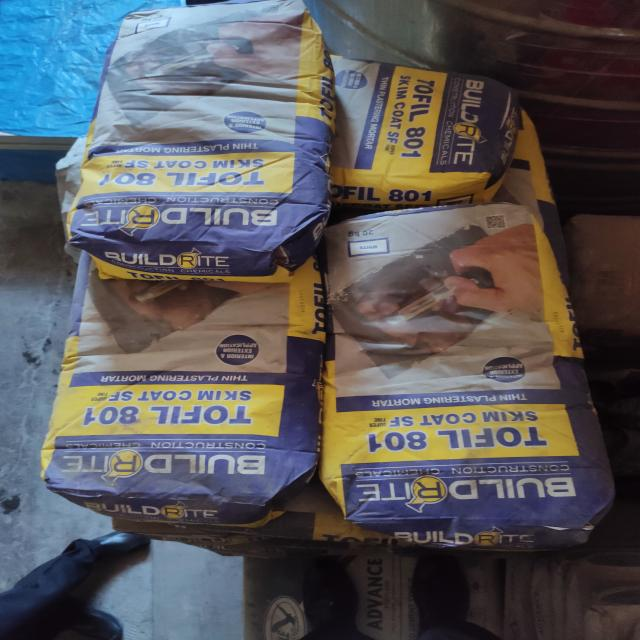Skim coat: (331, 214, 569, 524), (73, 249, 311, 486), (115, 16, 328, 251), (332, 65, 499, 194)
